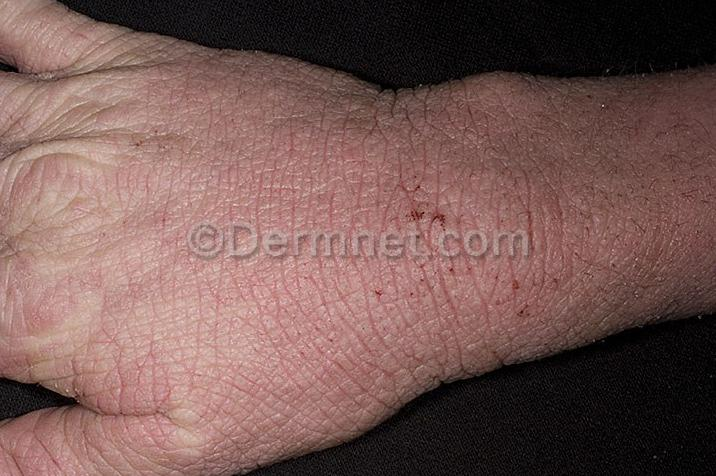Eritema 2: (0, 43, 716, 476)
exudacion 1: (366, 175, 527, 318)
liquenificacion 3: (15, 25, 672, 476)
